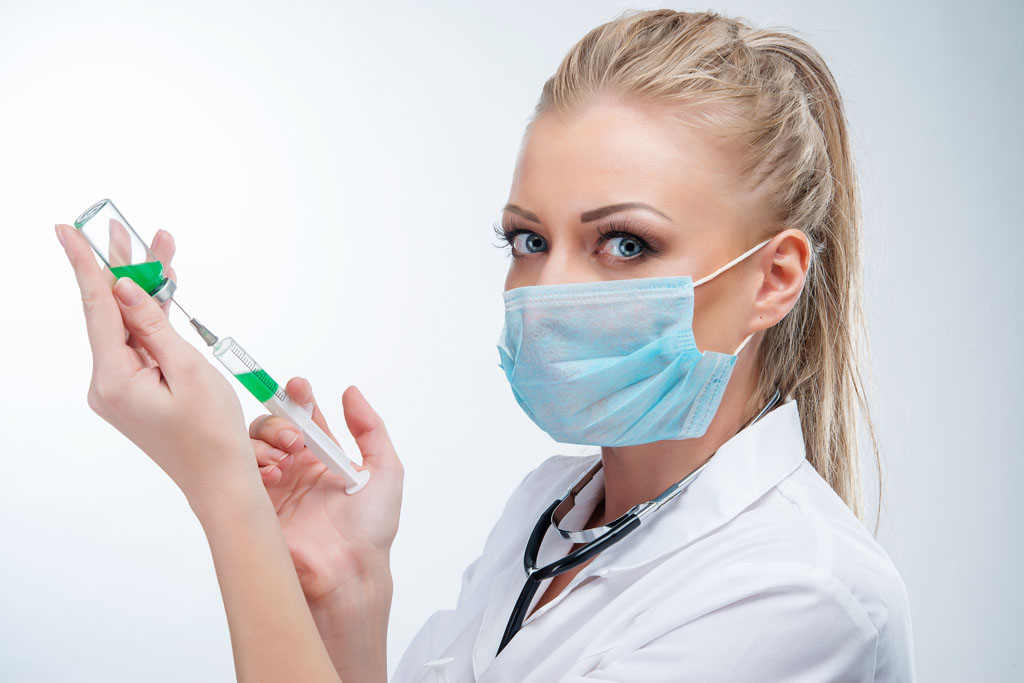mask: (502, 273, 739, 450)
